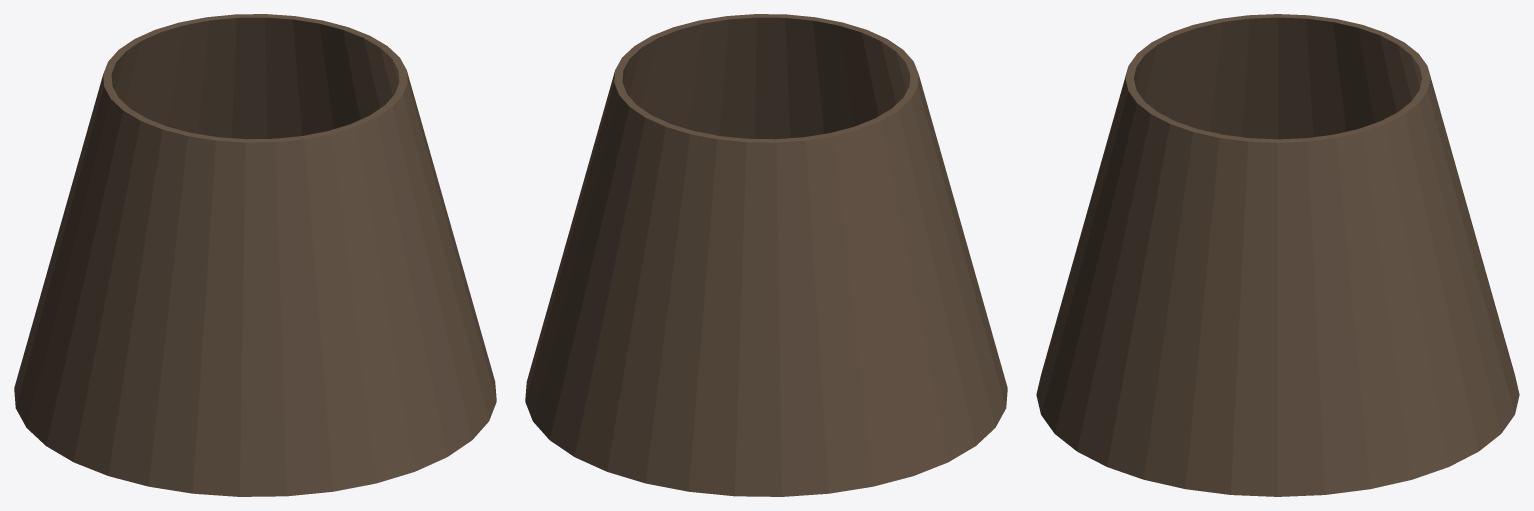
Rendered from lampshade.fbx.
3 renders of one model, left to right at view 1: azimuth 30°, elevation 25°; view 2: azimuth 150°, elevation 25°; view 3: azimuth 270°, elevation 25°, orthographic.
Parts seen in each view (by area): view 1: Cylinder; view 2: Cylinder; view 3: Cylinder.
Part boxes in pixels (left/top/right/bottom): Cylinder: left=14, top=14, right=496, bottom=496; Cylinder: left=525, top=14, right=1007, bottom=496; Cylinder: left=1036, top=14, right=1519, bottom=496.
Bounding box in the file's own units: 277 × 200 × 277.
